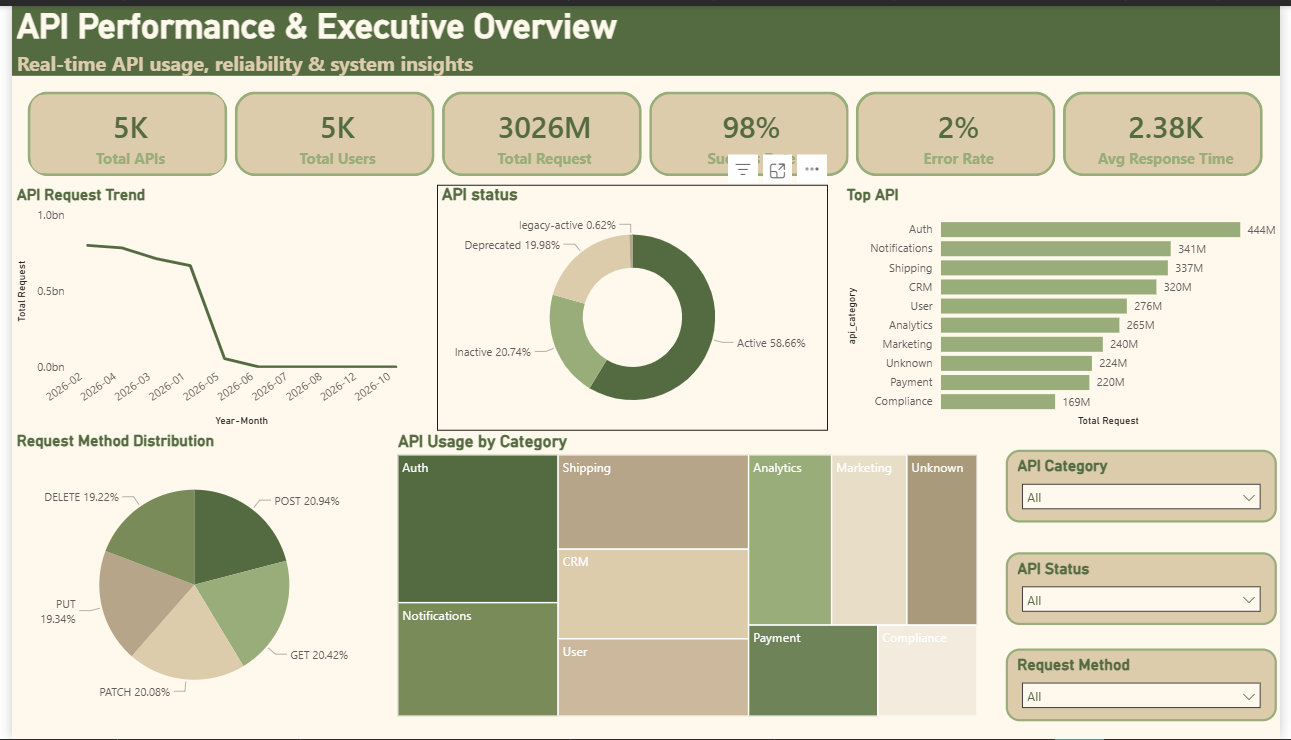

Layout of this report page (visuals, bound fields, positions):
{"tool":"powerbi","page":{"name":"Executive Overview","canvas":[1366,790],"ordinal":0},"visuals":[{"type":"cardVisual","fields":{"Data":["Measure.Total APIs","Measure.Total Users","Measure.Total Request","Measure.Success Rate","Measure.Error Rate","Measure.Avg Response Time"]},"box":[0,75.4,1366.5,125.2],"z":0},{"type":"textbox","title":"API Performance & Executive Overview","box":[0,0,1366.5,75.4],"z":1000},{"type":"lineChart","title":"API Request Trend","fields":{"Y":["Measure.Total Request"],"Category":["DateTable.Month"]},"box":[0,192.5,433.5,265.2],"z":2000},{"type":"donutChart","title":"API Status","fields":{"Category":["apis.status"],"Y":["CountNonNull(apis.api_id)"]},"box":[457.7,192.5,421.4,265.2],"z":3000},{"type":"clusteredBarChart","title":"Top API","fields":{"Y":["Measure.Total Request"],"Category":["apis.api_category"]},"box":[893.9,192.5,472.5,265.2],"z":4000},{"type":"pieChart","title":"Request Method Distribution","fields":{"Category":["api_logs.request_method"],"Y":["CountNonNull(api_logs.log_id)"]},"box":[0,457.7,393.1,312.3],"z":5000},{"type":"treemap","title":"API Usage by Category","fields":{"Group":["apis.api_category"],"Values":["Measure.Total Request"]},"box":[410.6,457.7,634.1,312.3],"z":6000},{"type":"slicer","title":"API Category","fields":{"Values":["apis.api_category"]},"box":[1070.3,477.9,292.1,78.1],"z":7000},{"type":"slicer","title":"Request Method","fields":{"Values":["api_logs.request_method"]},"box":[1070.3,692,292.1,78.1],"z":8000},{"type":"slicer","title":"API Status","fields":{"Values":["apis.status"]},"box":[1070.3,588.3,292.1,78.1],"z":9000}]}

Visuals, with their boxes in screenshot pixels (x1, y1, x2, y2), scaled from the page's 1366x790 canvas onto the 1291x740 screenshot:
cardVisual - Measure.Total APIs x Measure.Total Users: 0,71,1290,188
"API Performance & Executive Overview" textbox: 0,0,1290,71
"API Request Trend" lineChart: 0,180,410,429
"API Status" donutChart: 433,180,831,429
"Top API" clusteredBarChart: 845,180,1290,429
"Request Method Distribution" pieChart: 0,429,372,721
"API Usage by Category" treemap: 388,429,987,721
"API Category" slicer: 1012,448,1288,521
"Request Method" slicer: 1012,648,1288,721
"API Status" slicer: 1012,551,1288,624
